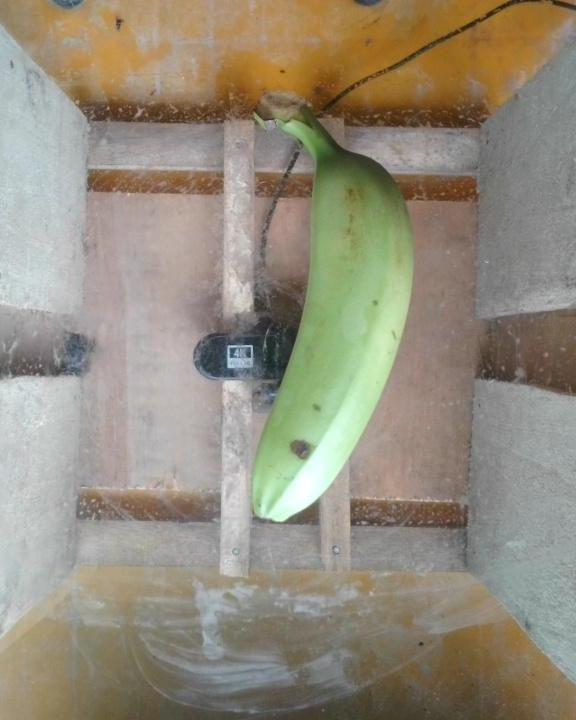CLASS B: (246, 89, 416, 537)
Class A: (282, 431, 321, 471)
